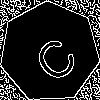C: (24, 27, 81, 86)
